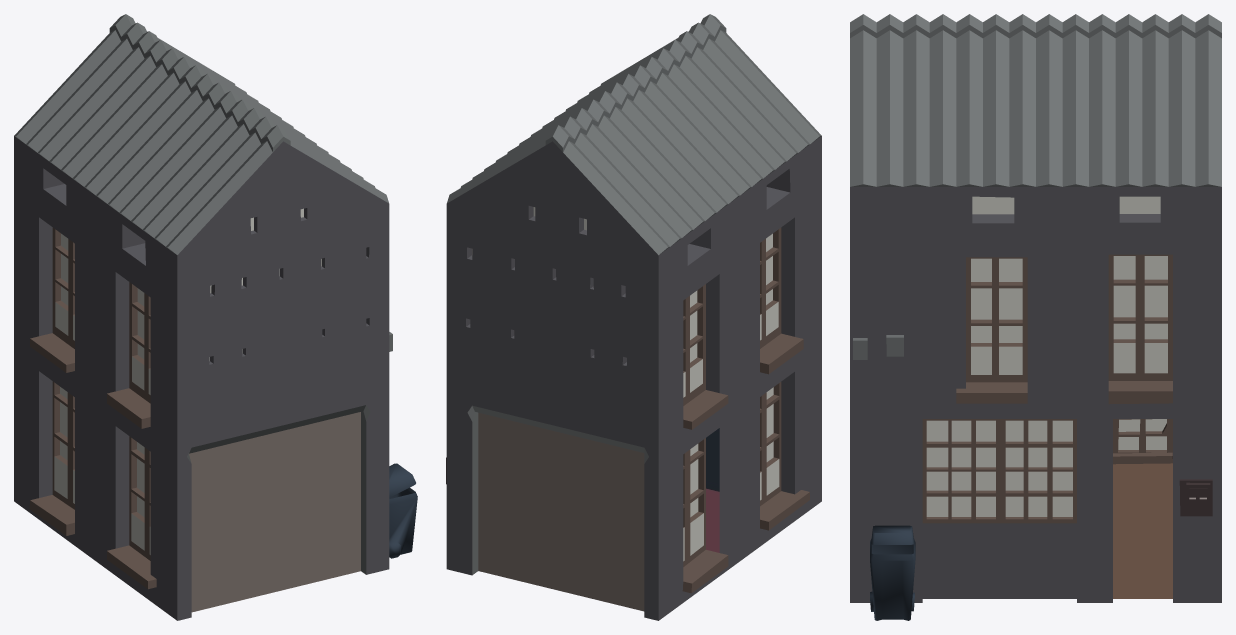
The model's file is Placeholder.fbx.
3 views of the same model, side by side, from view 1: azimuth 30°, elevation 25°; view 2: azimuth 150°, elevation 25°; view 3: azimuth 270°, elevation 25° (orthographic). The views are drawn at different scales.
Visible parts, largest first — view 1: Cube; view 2: Cube; view 3: Cube.
Part boxes in pixels (left/top/right/bottom): Cube: left=14, top=14, right=417, bottom=620; Cube: left=446, top=14, right=821, bottom=620; Cube: left=850, top=14, right=1221, bottom=620.
Bounding box in the file's own units: 343 × 591 × 375.
